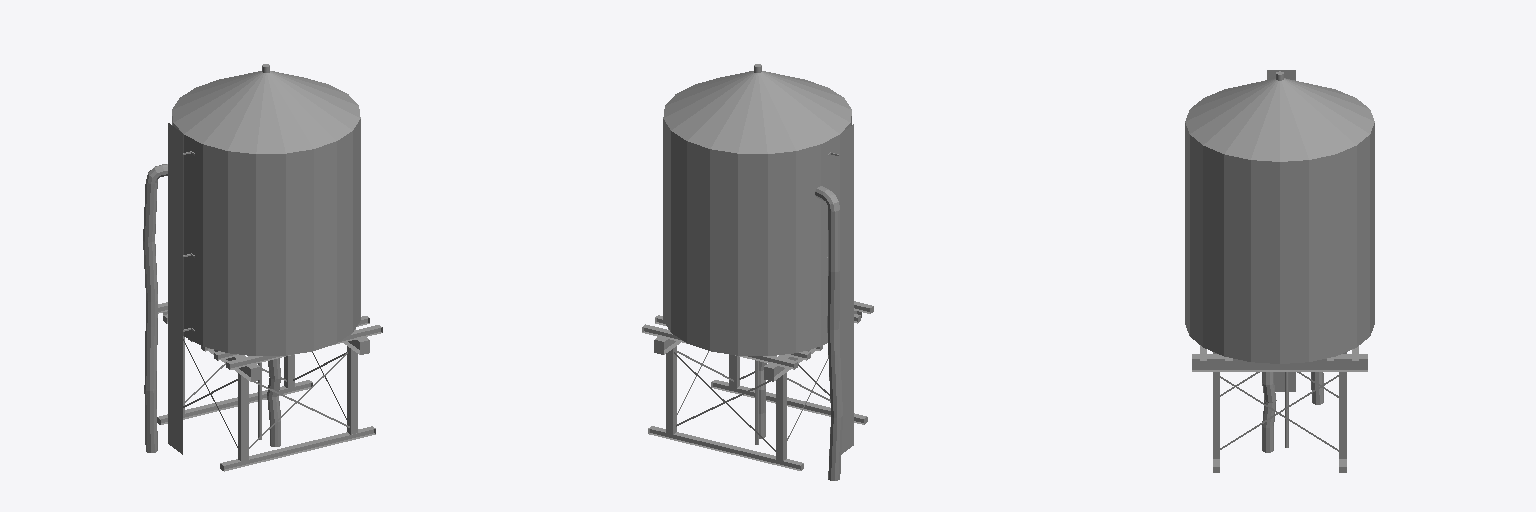
The model's file is water_tower0.obj.
3 renders of one model, left to right at view 1: azimuth 30°, elevation 25°; view 2: azimuth 150°, elevation 25°; view 3: azimuth 270°, elevation 25°, orthographic.
Parts seen in each view (by area): view 1: water_tower; view 2: water_tower; view 3: water_tower.
Boxes of the visible parts, box(x1,y1,x2,y2) form: water_tower: box(143, 64, 382, 471); water_tower: box(642, 64, 873, 480); water_tower: box(1185, 70, 1374, 472).
Size of the model in its own units: 6.32 by 12.28 by 5.63.